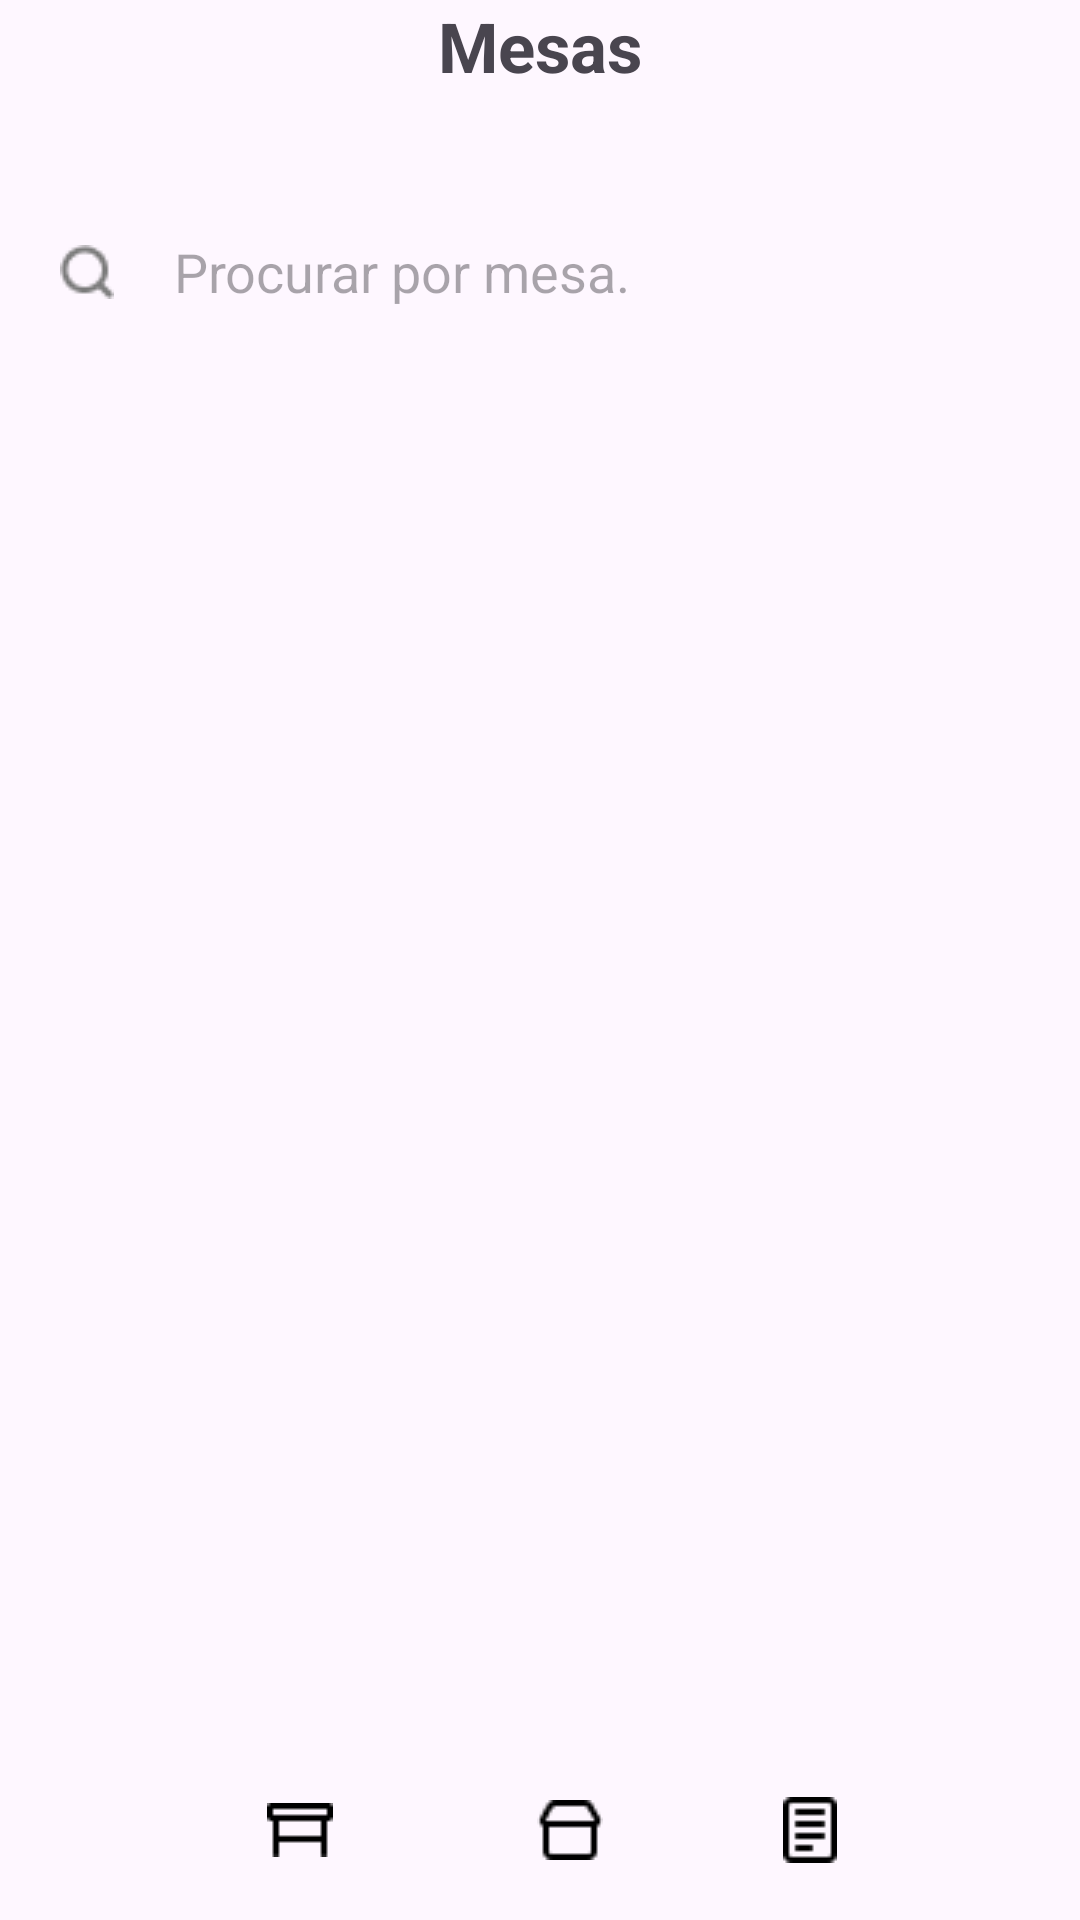

Point at icon controls on the screen. Image size 1080 x 1920, points as point (x, y).
list: point (810, 1830)
table: point (300, 1830)
